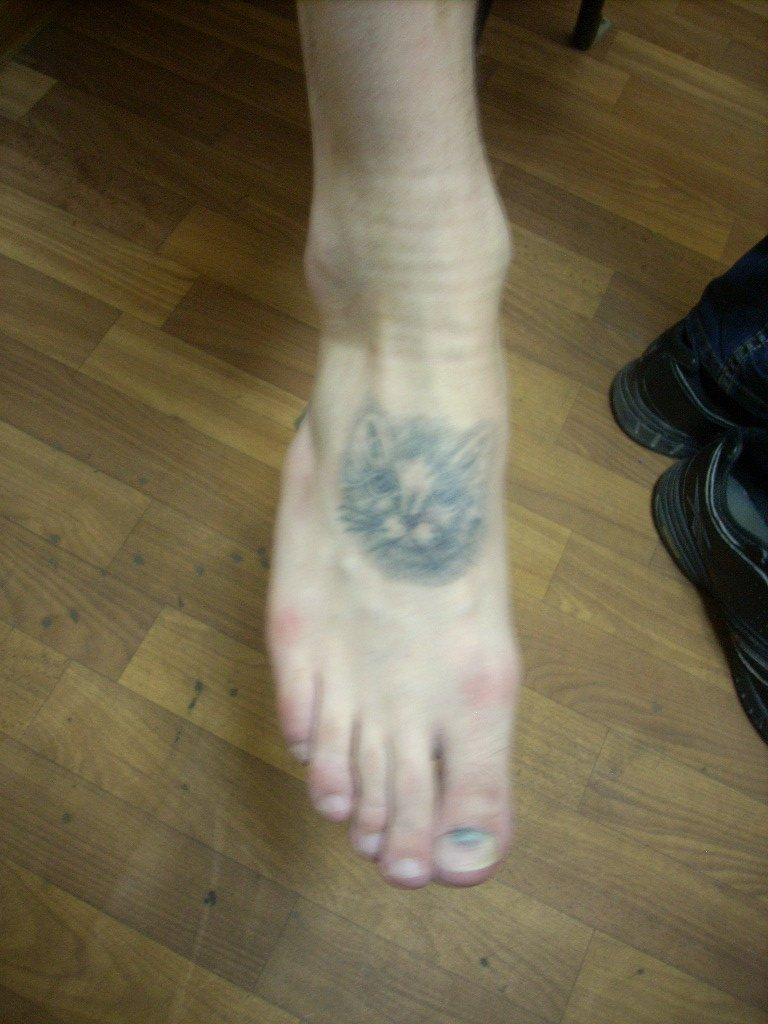tatu8_kot: (334, 397, 503, 597)
